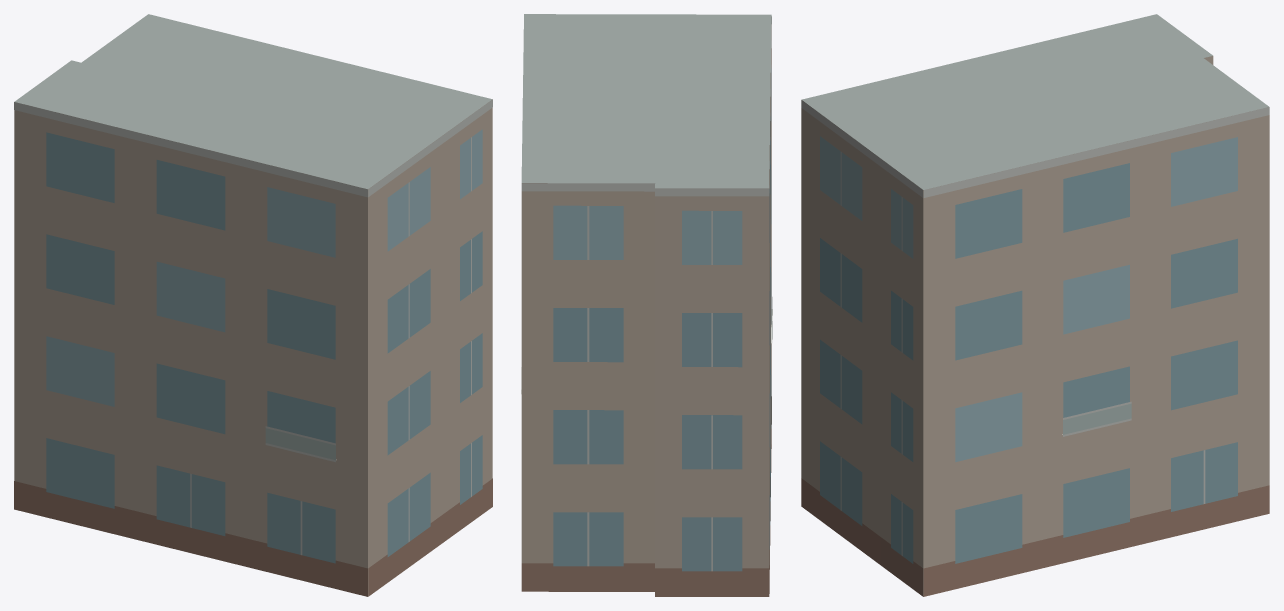
Rendered from residential-2ebd8d2f-c066-4552-a2d0-77490e9b83b6.glb.
The picture shows the model from 3 angles, left to right: view 1: azimuth 30°, elevation 25°; view 2: azimuth 150°, elevation 25°; view 3: azimuth 270°, elevation 25°; orthographic projection.
Visible parts, largest first — view 1: residential-2ebd8d2f-c066-4552-a2d0-77490e9b83b6.tmp; view 2: residential-2ebd8d2f-c066-4552-a2d0-77490e9b83b6.tmp; view 3: residential-2ebd8d2f-c066-4552-a2d0-77490e9b83b6.tmp.
Part boxes in pixels (x1,y1,x2,y2): residential-2ebd8d2f-c066-4552-a2d0-77490e9b83b6.tmp: (14,14,492,596); residential-2ebd8d2f-c066-4552-a2d0-77490e9b83b6.tmp: (521,14,772,596); residential-2ebd8d2f-c066-4552-a2d0-77490e9b83b6.tmp: (801,14,1269,596).
Size of the model in its own units: 11.34 by 12.2 by 12.73.
